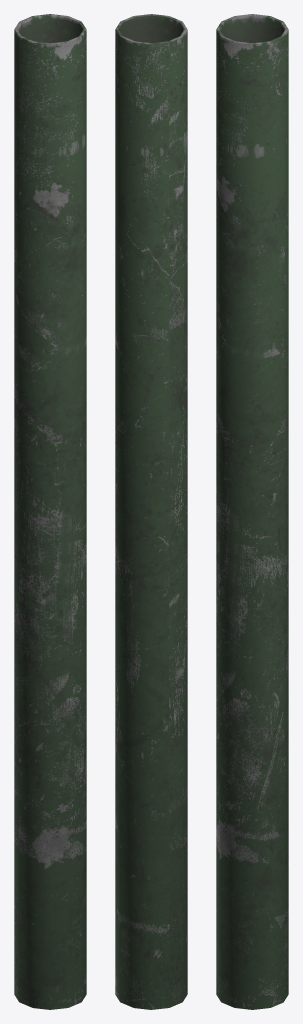
File: Metal_bar_0.glb
3 renders of one model, left to right at view 1: azimuth 30°, elevation 25°; view 2: azimuth 210°, elevation 25°; view 3: azimuth 330°, elevation 25°, orthographic.
Visible parts, largest first — view 1: pole_1_pole1_0; view 2: pole_1_pole1_0; view 3: pole_1_pole1_0.
Boxes of the visible parts, bbox=[...] form: pole_1_pole1_0: bbox=[14, 14, 86, 1009]; pole_1_pole1_0: bbox=[115, 14, 187, 1009]; pole_1_pole1_0: bbox=[216, 14, 288, 1009].
Bounding box in the file's own units: 0.1123 × 1.65 × 0.1123.
Materials: 1 (1 with a texture image).
